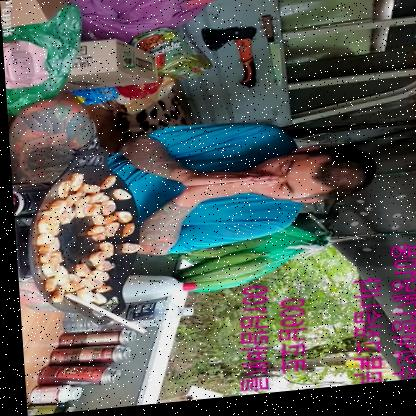streamer: (5, 75, 380, 314)
